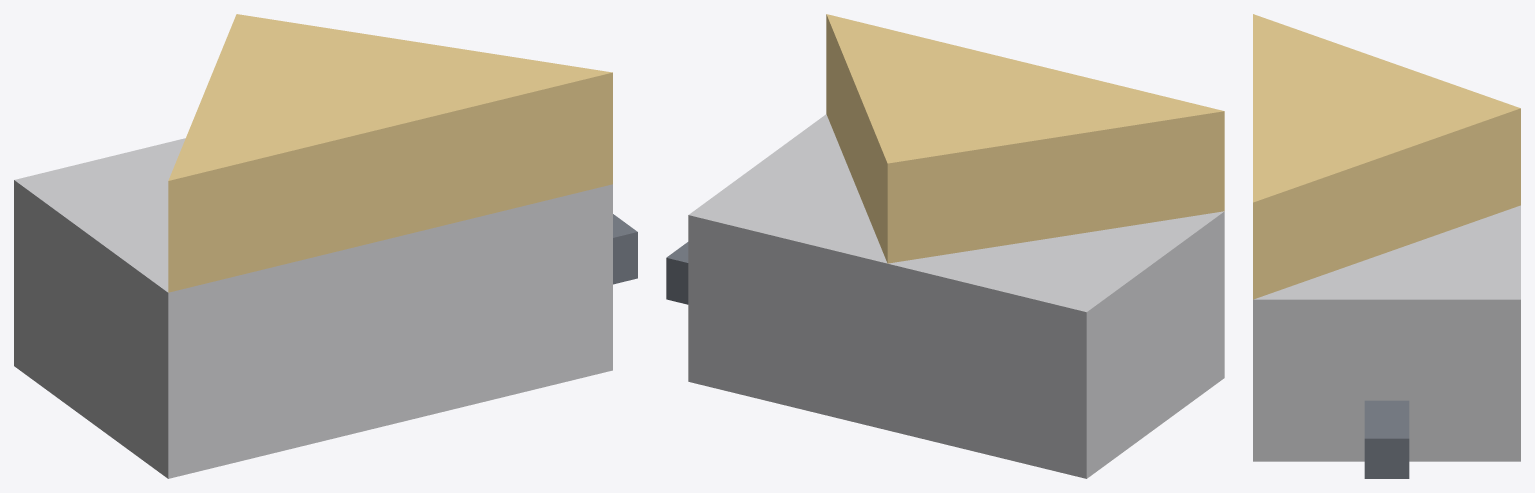
File: supply_hub.glb
The picture shows the model from 3 angles, left to right: view 1: azimuth 30°, elevation 25°; view 2: azimuth 150°, elevation 25°; view 3: azimuth 270°, elevation 25°; orthographic projection. The views are drawn at different scales.
Visible parts, largest first — view 1: supply_hub; view 2: supply_hub; view 3: supply_hub.
Part boxes in pixels (box(x1,y1,x2,y2)): supply_hub: box(14, 14, 637, 478); supply_hub: box(666, 14, 1224, 478); supply_hub: box(1253, 14, 1520, 478).
Size of the model in its own units: 0.6 by 0.32 by 0.3.
